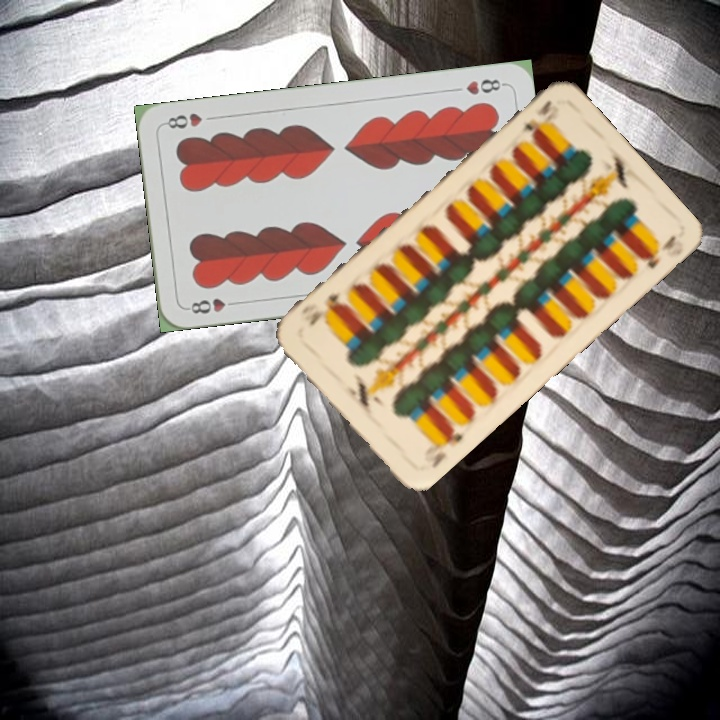E10: (428, 422, 466, 471), (518, 96, 554, 135)
H8: (183, 294, 241, 317), (462, 75, 508, 98)
